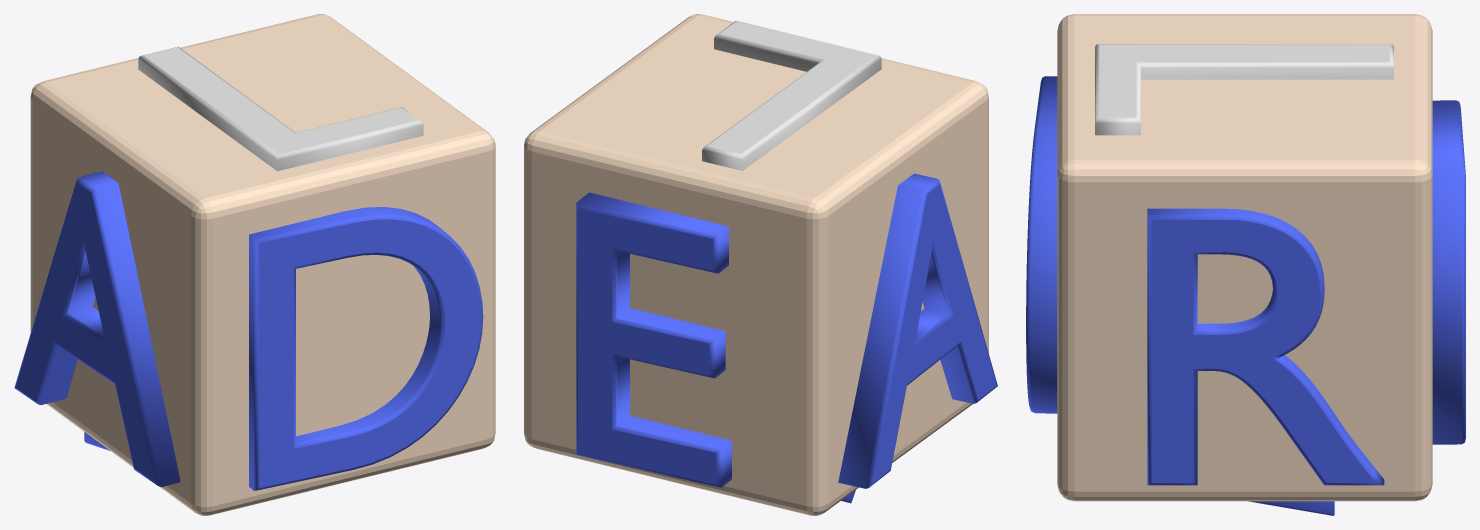
The picture shows the model from 3 angles, left to right: view 1: azimuth 30°, elevation 25°; view 2: azimuth 150°, elevation 25°; view 3: azimuth 270°, elevation 25°; orthographic projection. The views are drawn at different scales.
Visible parts, largest first — view 1: Text4, Text5; view 2: Text4, Text5; view 3: Text4, Text5.
Part boxes in pixels (box(x1,y1,x2,y2)): Text4: box(14, 14, 495, 515); Text5: box(138, 46, 423, 171); Text4: box(524, 14, 997, 515); Text5: box(702, 20, 881, 170); Text4: box(1026, 14, 1465, 515); Text5: box(1095, 44, 1393, 135).
Bounding box in the file's own units: 2.29 × 2.2 × 2.34.
Materials: 2 (1 with a texture image).
